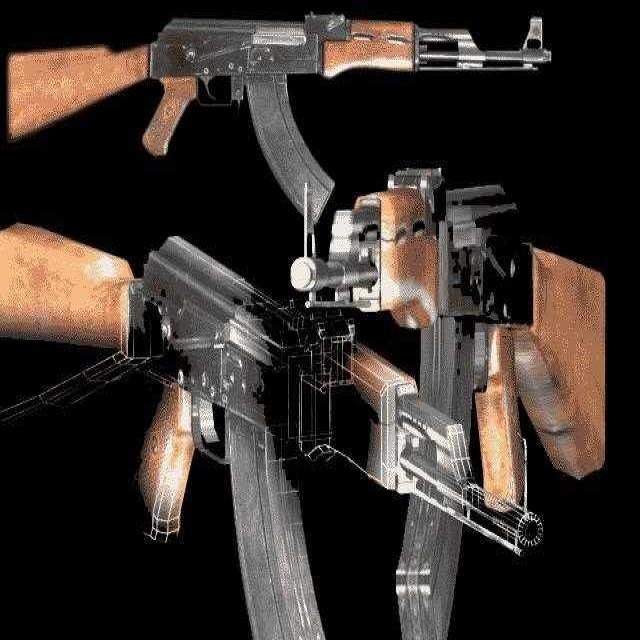heavyweapon: (1, 3, 587, 227)
